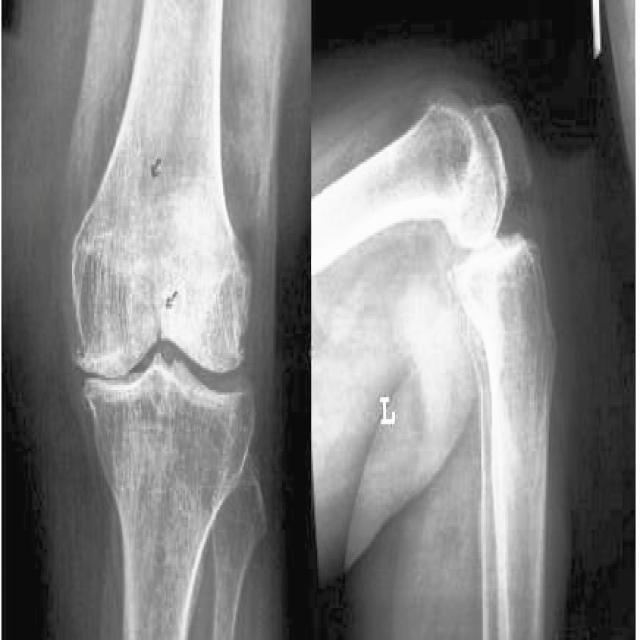HairLine Fracture: (145, 304, 171, 339)
